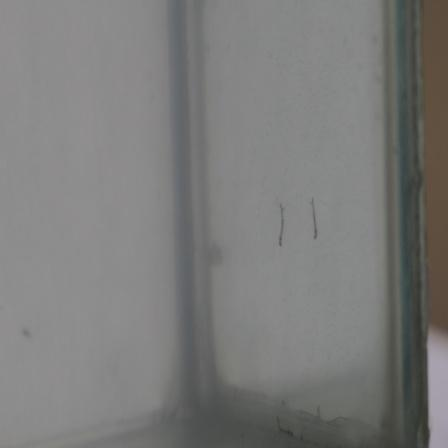Jentik-Nyamuk: (274, 199, 291, 250)
